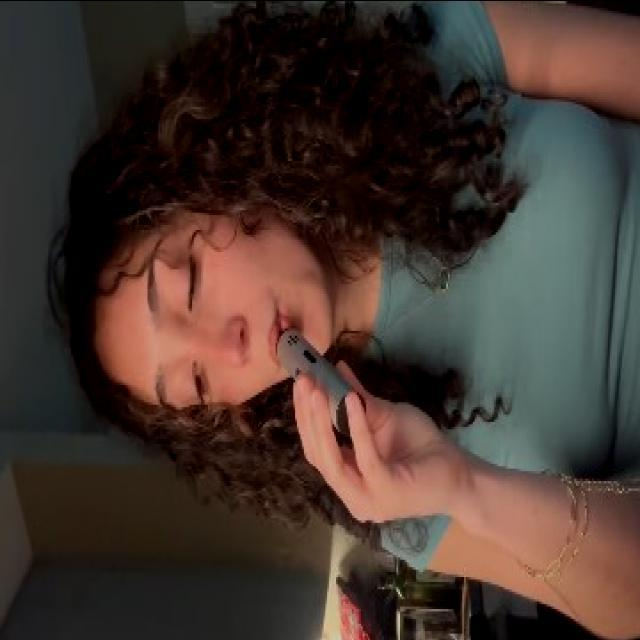Hazard: (274, 324, 368, 438)
